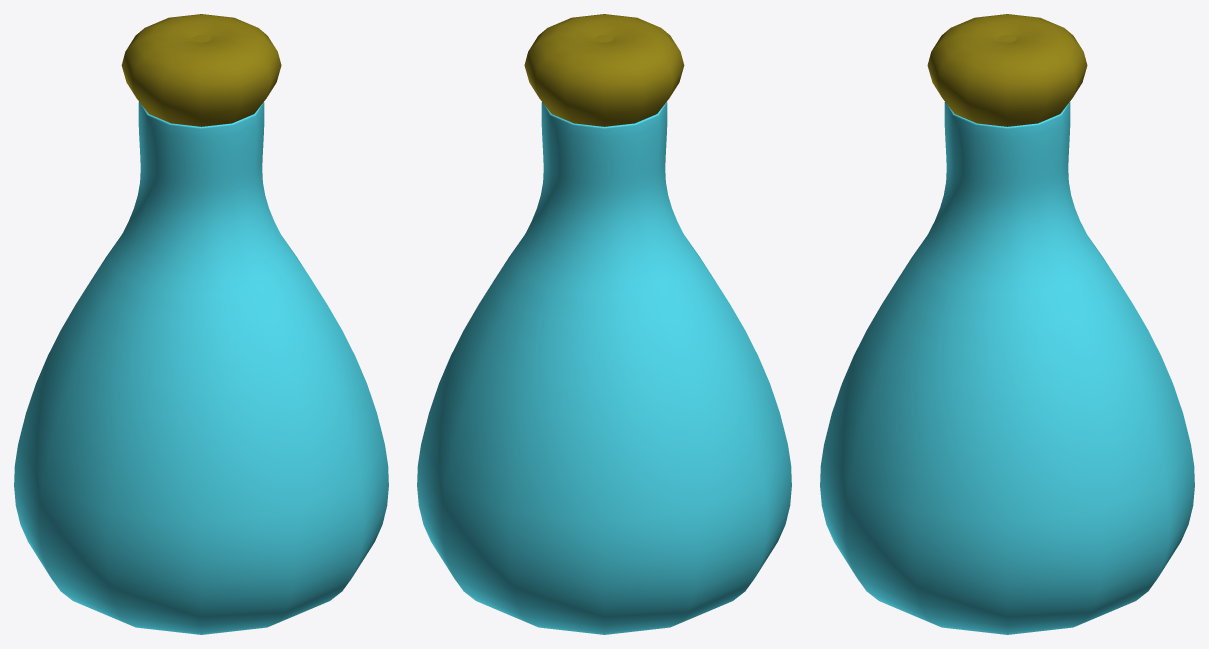
The model's file is potion17.FBX.
3 views of the same model, side by side, from view 1: azimuth 30°, elevation 25°; view 2: azimuth 150°, elevation 25°; view 3: azimuth 270°, elevation 25° (orthographic).
Parts seen in each view (by area): view 1: potion_17glass; view 2: potion_17glass; view 3: potion_17glass.
Boxes of the visible parts, x1=… form: potion_17glass: x1=14, y1=14, x2=388, y2=634; potion_17glass: x1=417, y1=14, x2=791, y2=634; potion_17glass: x1=820, y1=14, x2=1194, y2=634.
Bounding box in the file's own units: 27.73 × 46.09 × 27.73.
